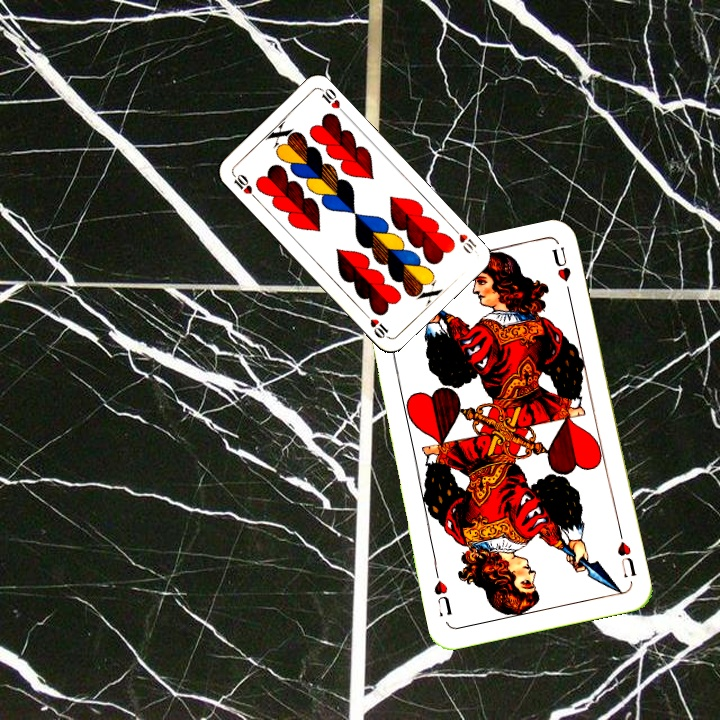H10: (228, 170, 260, 203), (448, 222, 479, 256)
HU: (613, 527, 639, 581)
